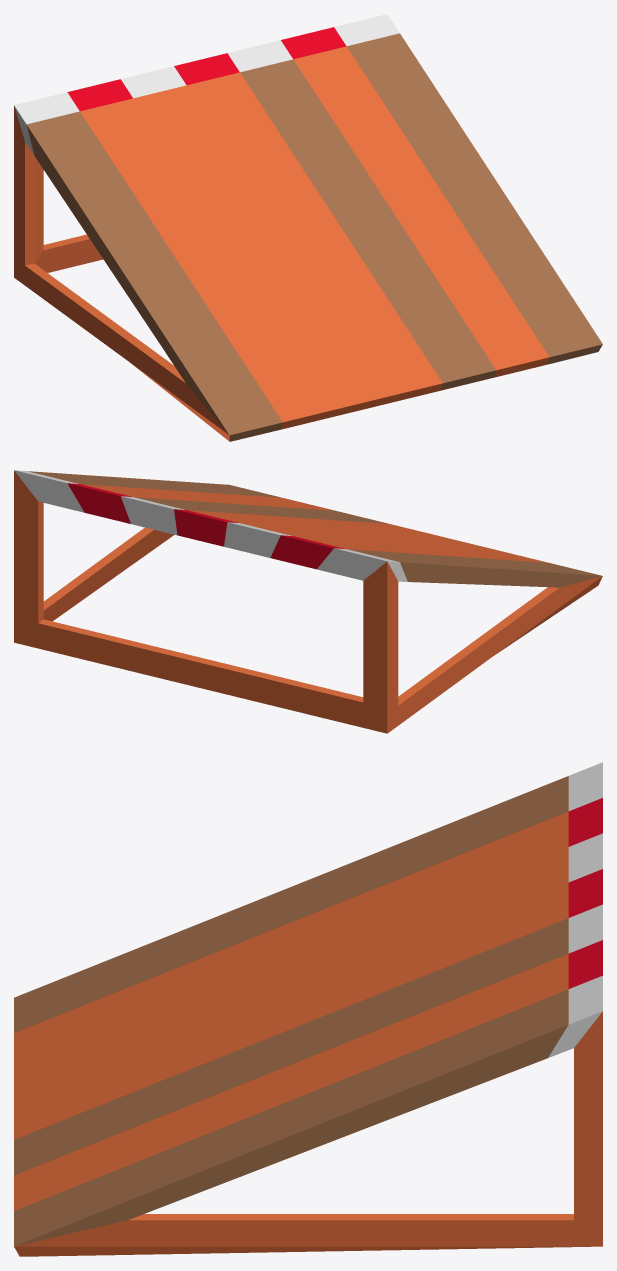
The model's file is ramp.glb.
The picture shows the model from 3 angles, top to bottom: view 1: azimuth 30°, elevation 25°; view 2: azimuth 150°, elevation 25°; view 3: azimuth 270°, elevation 25°; orthographic projection. The views are drawn at different scales.
Visible parts, largest first — view 1: ramp; view 2: ramp; view 3: ramp.
Part boxes in pixels (bbox=[...]): ramp: bbox=[14, 14, 602, 441]; ramp: bbox=[14, 470, 602, 733]; ramp: bbox=[14, 762, 602, 1256].
Size of the model in its own units: 4 by 1.86 by 4.
